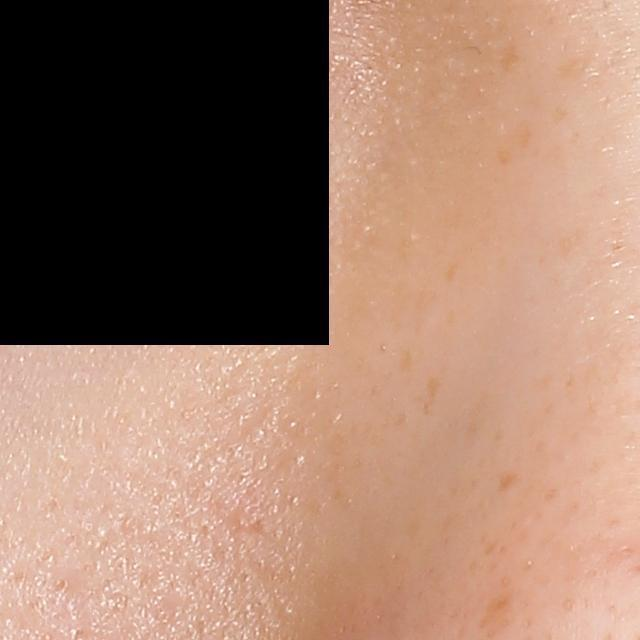melasma: (552, 55, 593, 82), (497, 38, 521, 79), (511, 119, 538, 153), (423, 374, 448, 409), (494, 471, 525, 499), (395, 346, 417, 378), (494, 145, 519, 169), (445, 260, 461, 286)
